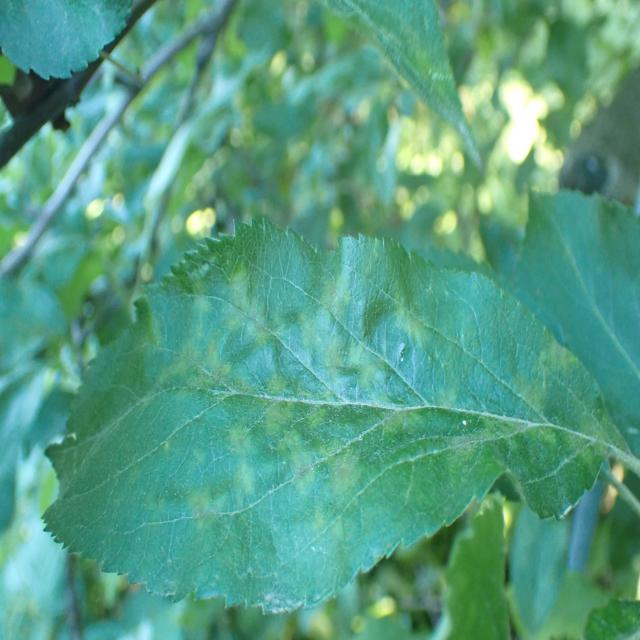scab: (109, 227, 632, 578)
